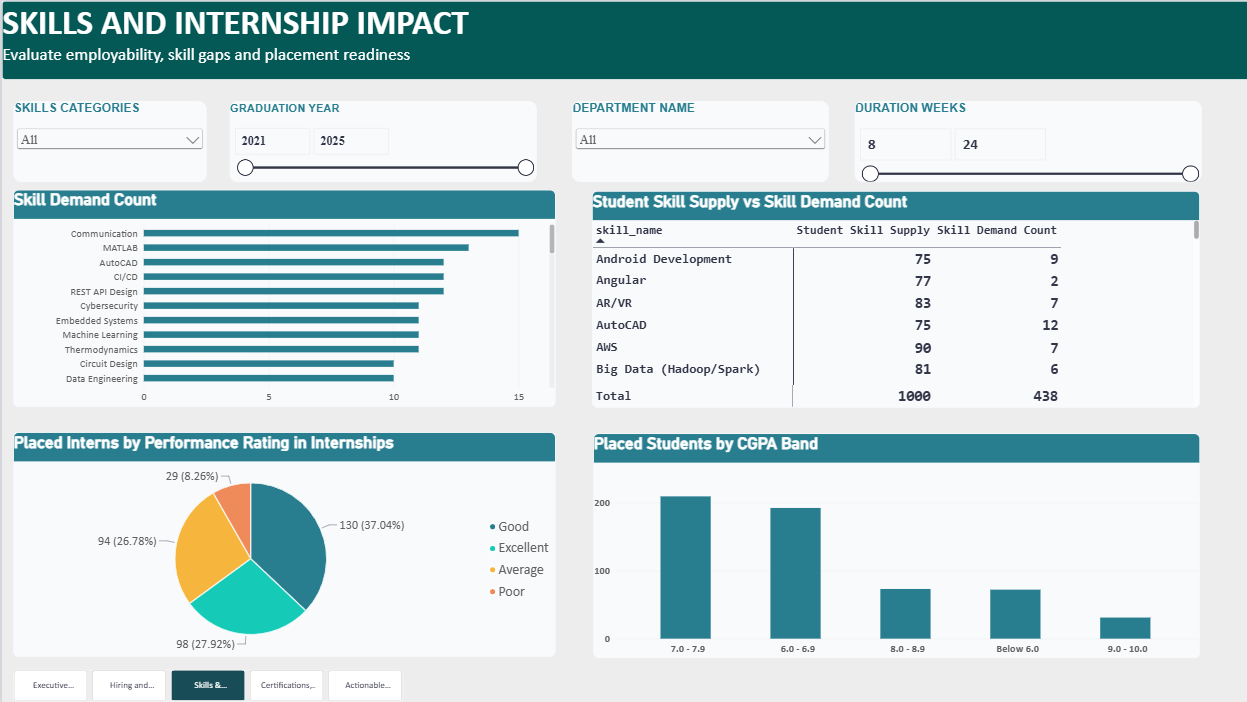

The page's visual inventory and layout, read from the dashboard file:
{"tool":"powerbi","page":{"name":"Skills & Internship Impact","canvas":[1920,1080],"ordinal":2},"visuals":[{"type":"clusteredBarChart","title":"  Skill Demand Count","fields":{"Category":["skills.skill_name"],"Y":["_Key Measures.Skill Demand Count"]},"box":[18.2,290.9,834.1,334.1],"z":0},{"type":"pieChart","title":"Placed Interns by Performance Rating in Internships","fields":{"Category":["internships.performance_rating"],"Y":["_Key Measures.Placed Interns"]},"box":[18.2,663.6,834.1,345.5],"z":1000},{"type":"columnChart","title":"Placed Students by CGPA Band","fields":{"Category":["academic_records.CGPABAND"],"Y":["_Key Measures.Placed Students"]},"box":[910.4,664.6,933.3,345.8],"z":2000},{"type":"slicer","title":"SKILLS CATEGORIES ","fields":{"Values":["skills.category"]},"box":[18.2,154.5,297.7,125],"z":3000},{"type":"slicer","title":"DURATION WEEKS","fields":{"Values":["internships.duration_weeks"]},"box":[1311.4,154.5,534.1,125],"z":4000},{"type":"pivotTable","title":"Student Skill Supply vs Skill Demand Count","fields":{"Rows":["skills.skill_name"],"Values":["_Key Measures.Student Skill Supply","_Key Measures.Skill Demand Count"]},"box":[908.3,291.7,935.4,333.3],"z":5000},{"type":"slicer","title":"GRADUATION YEAR","fields":{"Values":["students (2).graduation_year"]},"box":[350,154.5,472.7,125],"z":6000},{"type":"slicer","title":"DEPARTMENT NAME","fields":{"Values":["departments.department_name"]},"box":[877.3,154.5,395.5,125],"z":7000},{"type":"pageNavigator","box":[18.2,1029.5,600,50],"z":8000},{"type":"textbox","box":[0,0,1920.8,120.8],"z":9000}]}

Visuals, with their boxes in screenshot pixels (x1, y1, x2, y2), scaled from the page's 1920x1080 canvas onto the 1247x702 screenshot:
"  Skill Demand Count" clusteredBarChart: 12/189/554/406
"Placed Interns by Performance Rating in Internships" pieChart: 12/431/554/656
"Placed Students by CGPA Band" columnChart: 591/432/1197/657
"SKILLS CATEGORIES " slicer: 12/100/205/182
"DURATION WEEKS" slicer: 852/100/1199/182
"Student Skill Supply vs Skill Demand Count" pivotTable: 590/190/1197/406
"GRADUATION YEAR" slicer: 227/100/534/182
"DEPARTMENT NAME" slicer: 570/100/827/182
pageNavigator: 12/669/402/701
textbox: 0/0/1246/79
